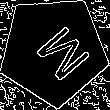M_SW: (20, 17, 87, 85)
